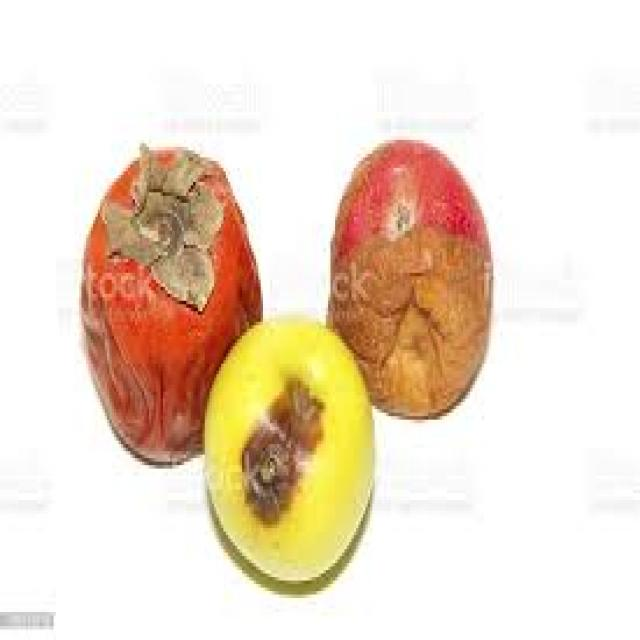organic waste: (79, 137, 261, 465), (198, 311, 372, 584), (326, 136, 491, 413)
